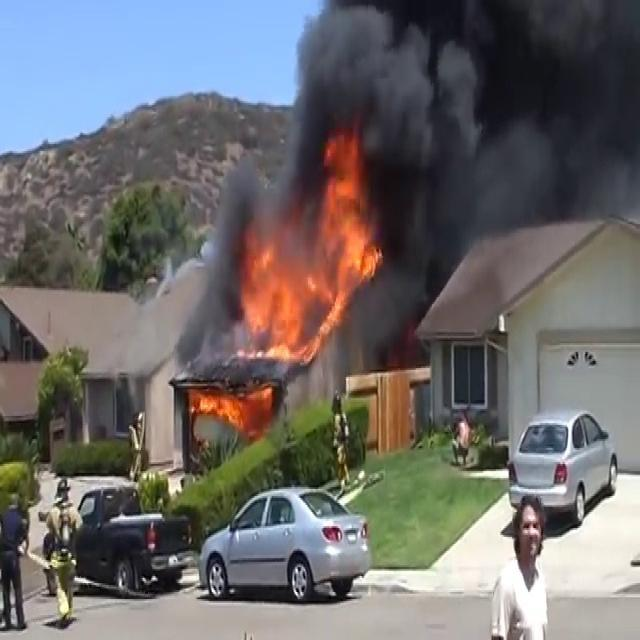Fire: (236, 143, 386, 364), (186, 384, 248, 424)
Smoke: (249, 0, 640, 240)
